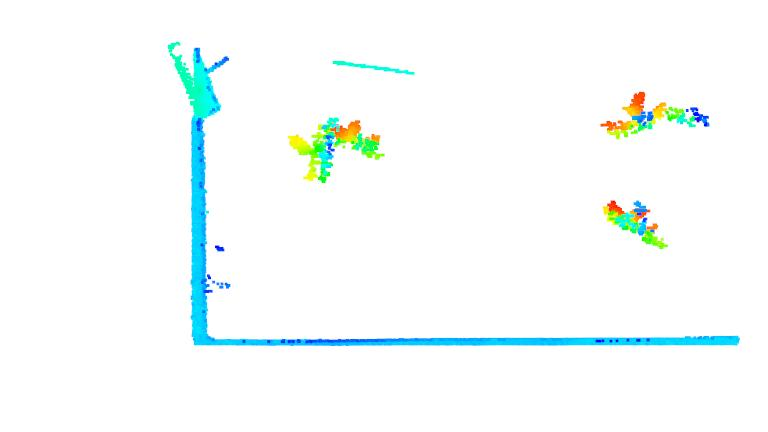chickpea: (599, 196, 668, 251), (601, 90, 666, 138), (287, 119, 335, 183), (330, 118, 386, 161), (666, 104, 712, 129)
